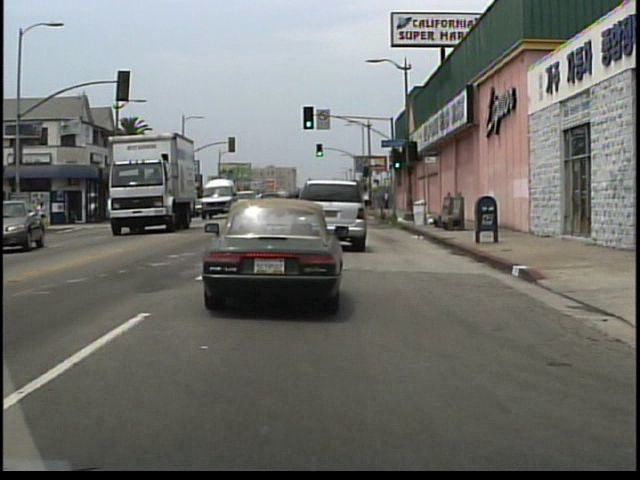person: (35, 201, 47, 230), (381, 189, 391, 209)
